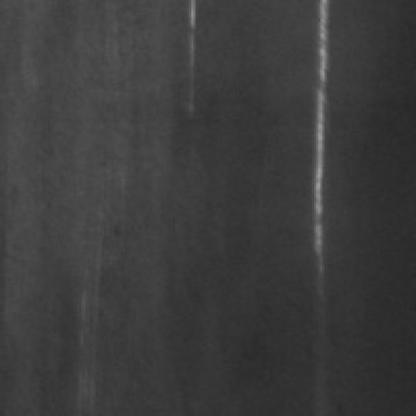scratches: (310, 4, 337, 279)
